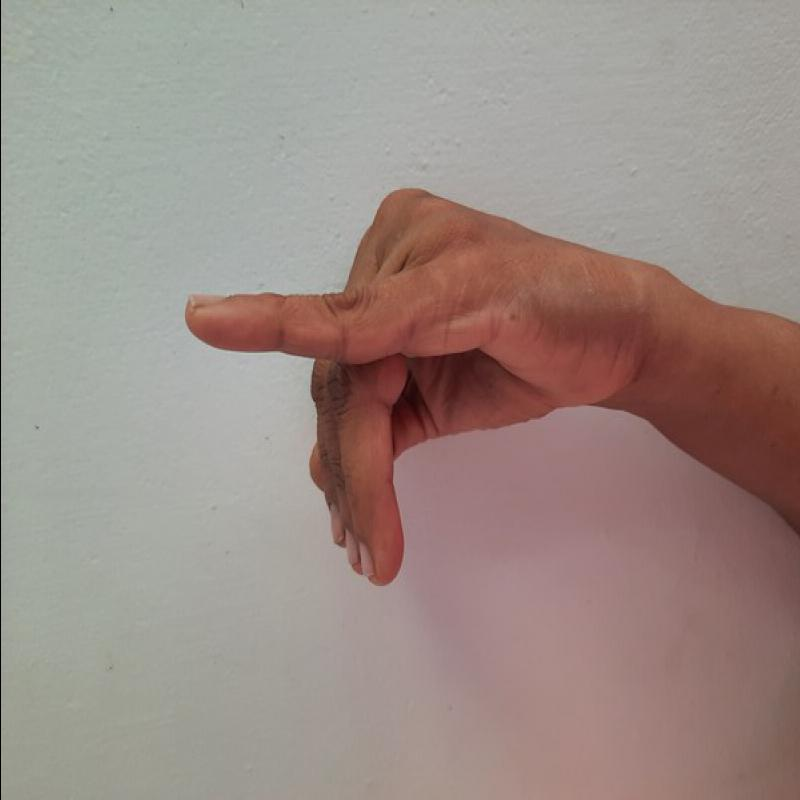Kartharee Mukham: (159, 175, 653, 599)
